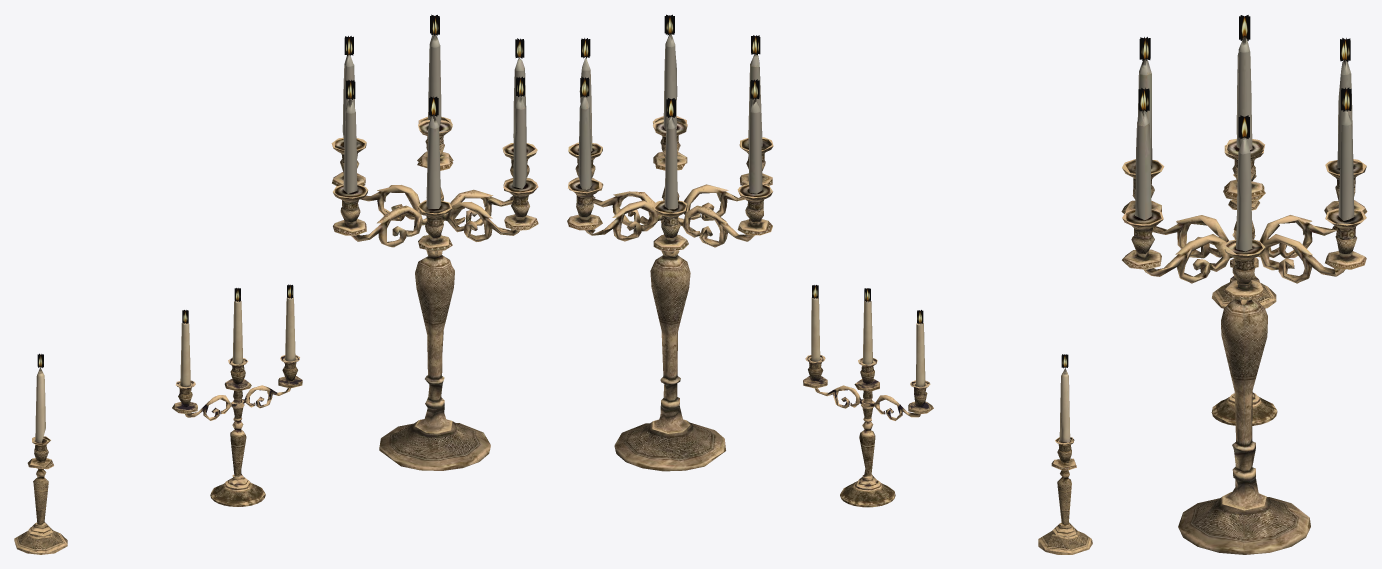
File: brass_candleholders.glb
3 renders of one model, left to right at view 1: azimuth 30°, elevation 25°; view 2: azimuth 150°, elevation 25°; view 3: azimuth 270°, elevation 25°, orthographic. The views are drawn at different scales.
Visible parts, largest first — view 1: brass_candleholder_03, brass_candleholder_02, brass_candleholder_01; view 2: brass_candleholder_03, brass_candleholder_02, brass_candleholder_01; view 3: brass_candleholder_03, brass_candleholder_02, brass_candleholder_01.
Boxes of the visible parts, left/top/right/bottom form: brass_candleholder_03: left=331, top=14, right=538, bottom=470; brass_candleholder_02: left=172, top=284, right=302, bottom=506; brass_candleholder_01: left=14, top=353, right=67, bottom=554; brass_candleholder_03: left=567, top=14, right=773, bottom=471; brass_candleholder_02: left=803, top=285, right=933, bottom=507; brass_candleholder_01: left=1038, top=354, right=1092, bottom=554; brass_candleholder_03: left=1121, top=15, right=1367, bottom=554; brass_candleholder_02: left=1211, top=233, right=1277, bottom=425; brass_candleholder_01: left=1212, top=174, right=1276, bottom=308.
Bounding box in the file's own units: 1.05 × 0.8353 × 0.3647.
5 materials, 5 textured.
